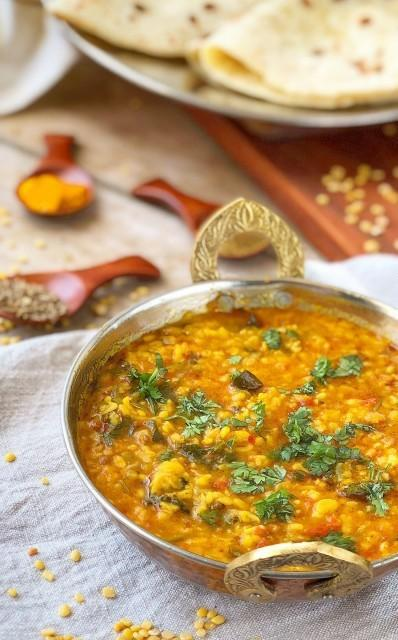Dal: (73, 307, 398, 567)
